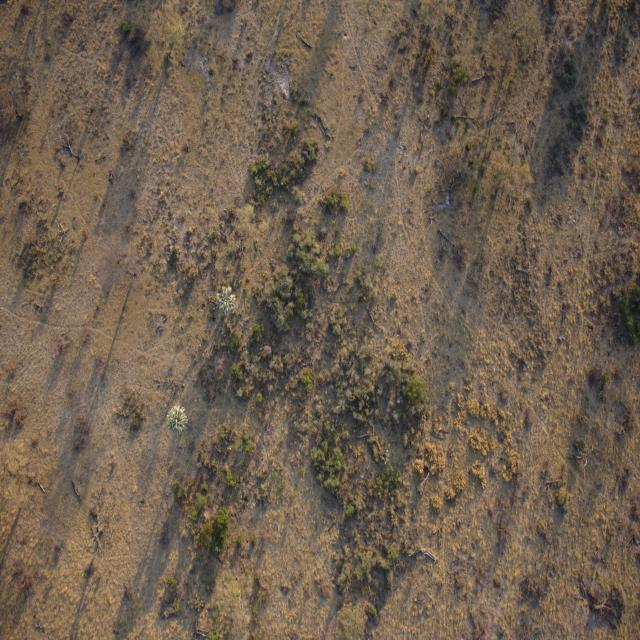elephant: (107, 167, 114, 183), (56, 189, 64, 199)
